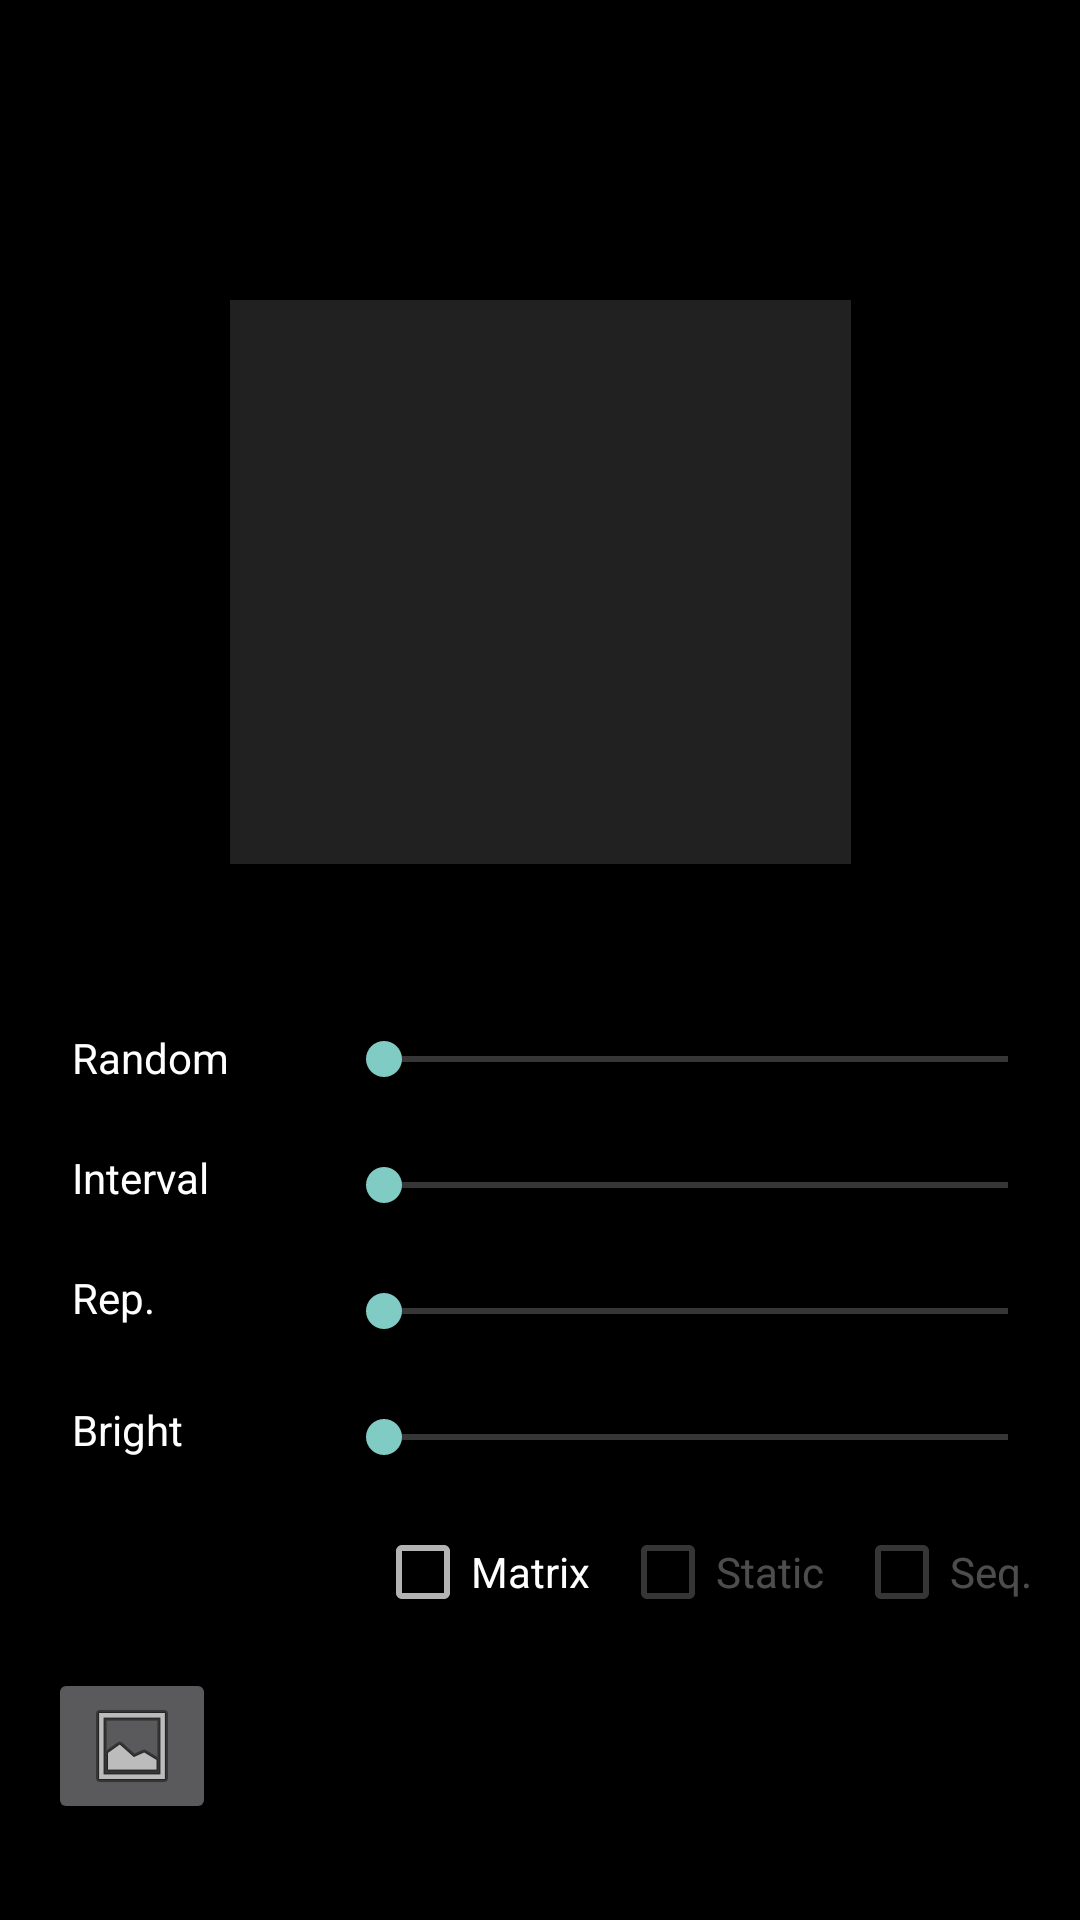

Icon click points for this 1080px×1920px phone screenshot, format (x=x, y=y):
gallery: (x=132, y=1746)
